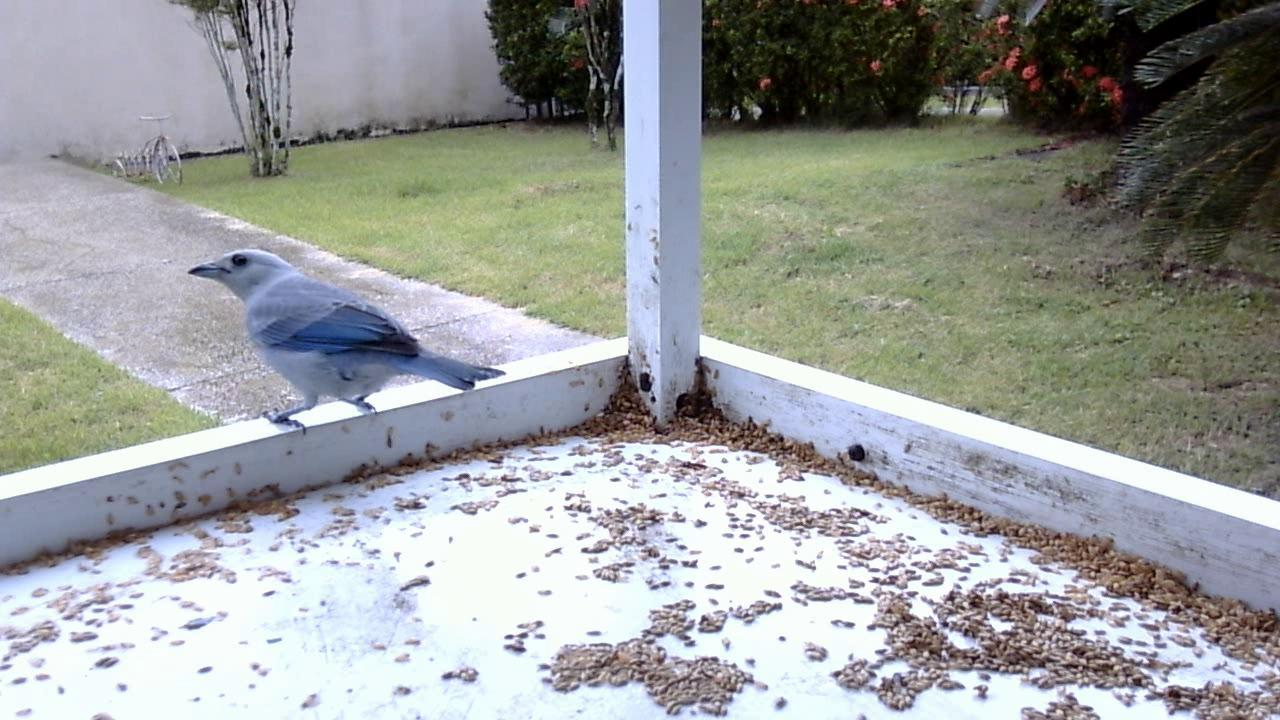sanhaco_da_amazonia: (182, 245, 499, 439)
